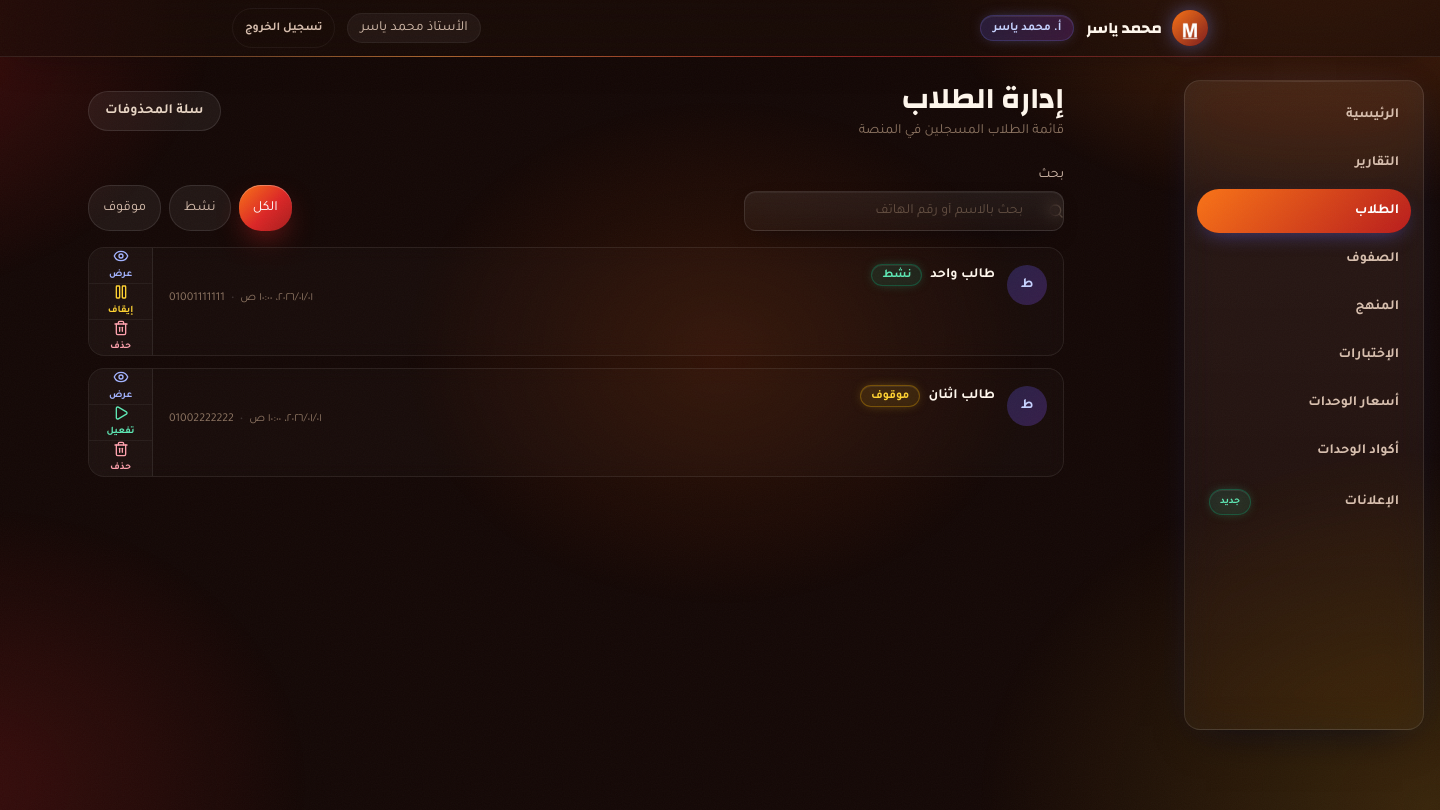
Test: StudentListPage (staff lifecycle) › soft-deletes a student after a danger confirmation
This screenshot has width=1440, height=810.
What coordinates should you click on to do the following:
click the button "حذف" below "01001111111"
I would click on:
 (120, 338)
Its box is x1=89 y1=320 x2=152 y2=355.
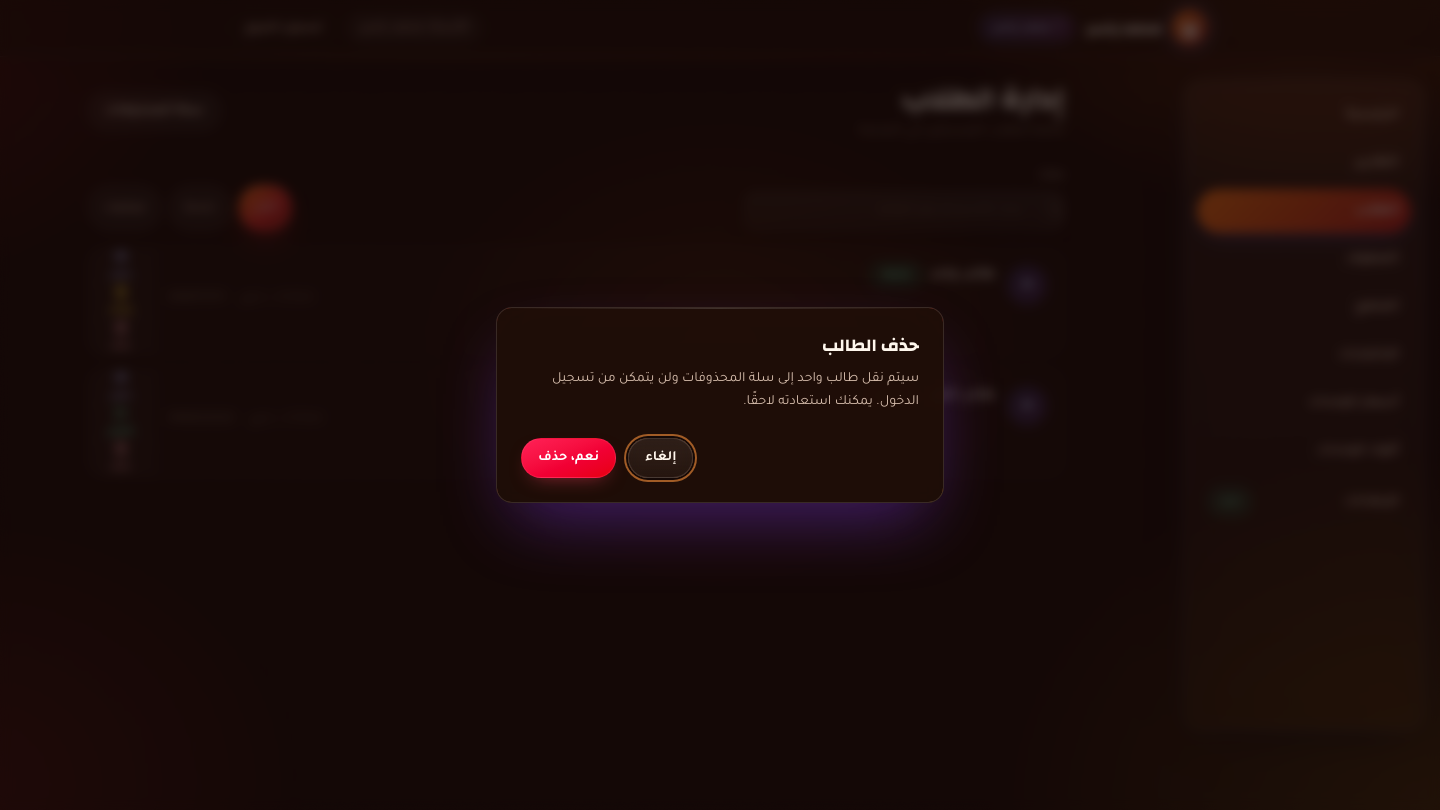
Now the dialog shows "سلة المحذوفات", box x1=552 y1=372 x2=919 y2=409
What coordinates should you click on to do the following:
click the button "نعم، حذف"
I would click on:
 (569, 458)
Its box is x1=521 y1=438 x2=616 y2=478.
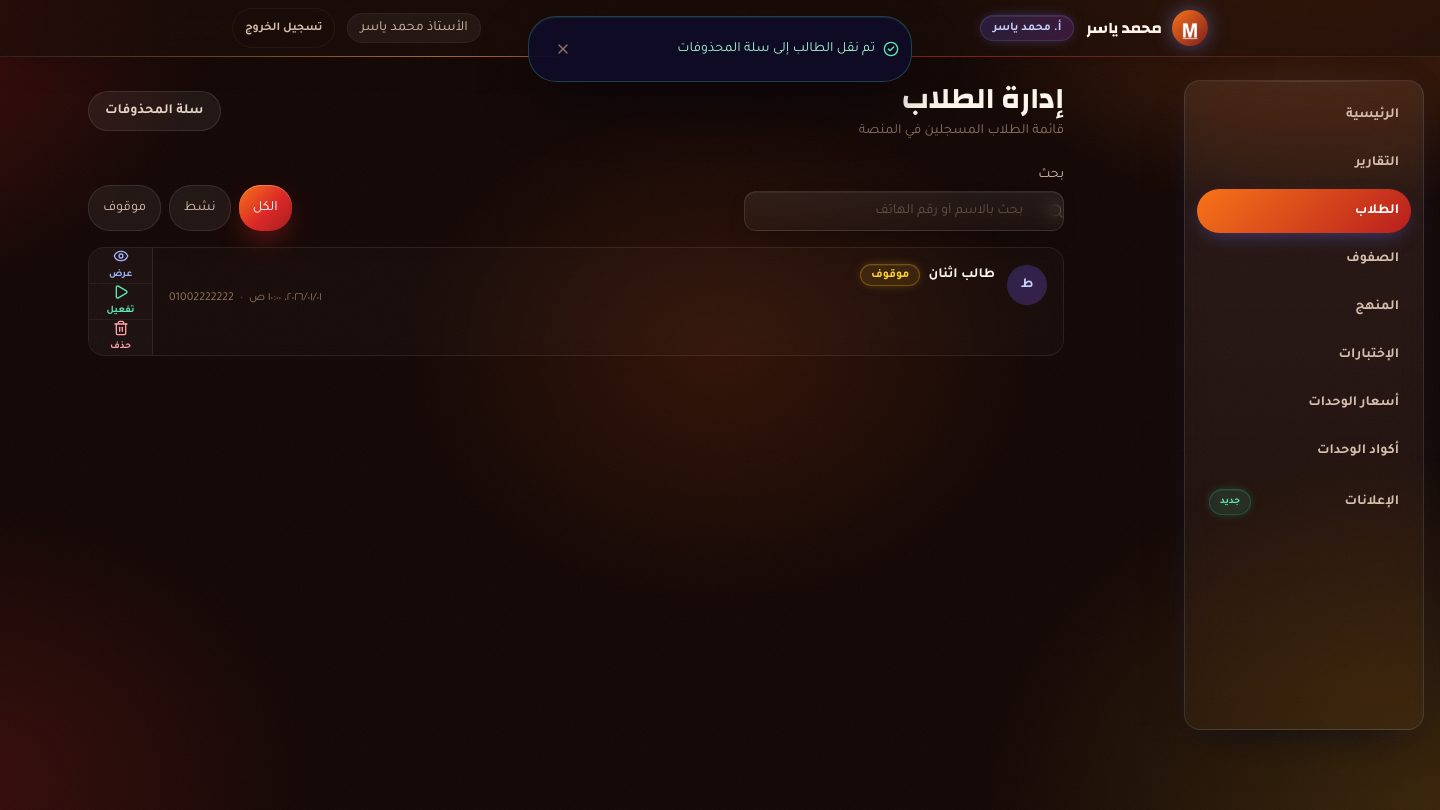
Now the element with test id "student-row-s1" is gone
